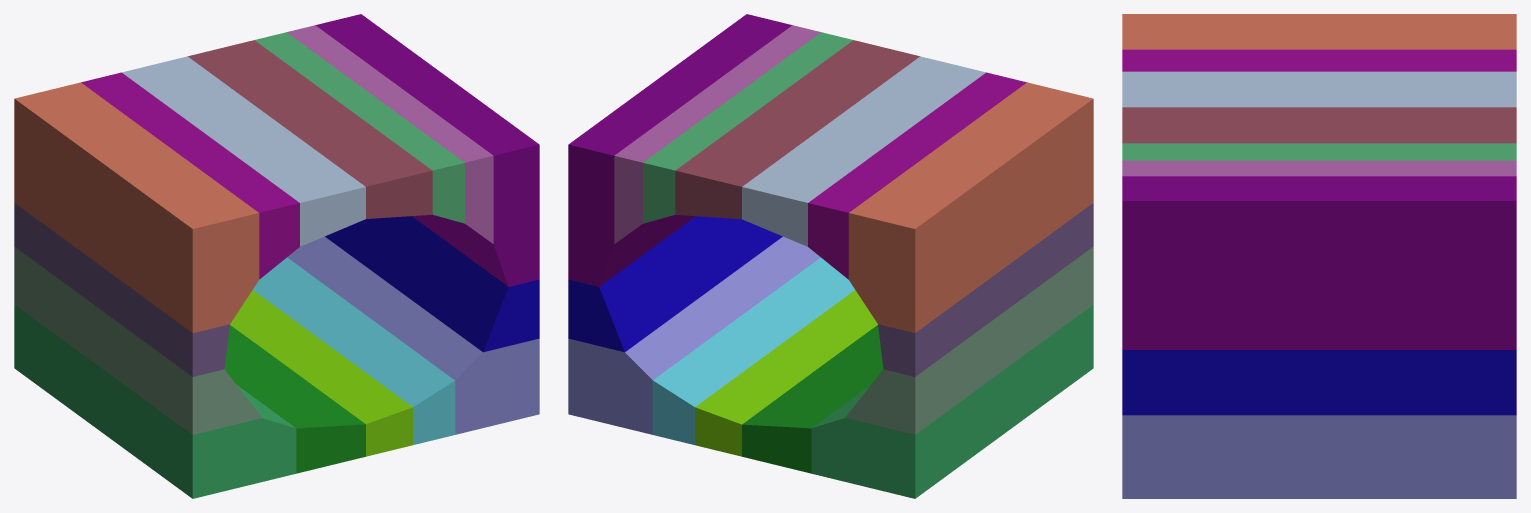
The model's file is hole_4.obj.
3 views of the same model, side by side, from view 1: azimuth 30°, elevation 25°; view 2: azimuth 150°, elevation 25°; view 3: azimuth 270°, elevation 25° (orthographic). The views are drawn at different scales.
Visible parts, largest first — view 1: geometry_9, geometry_10, geometry_11, geometry_13, geometry_12, geometry_6, geometry_5, geometry_0, geometry_2, geometry_14, geometry_1, geometry_4 (+3 smaller); view 2: geometry_9, geometry_10, geometry_11, geometry_13, geometry_12, geometry_6, geometry_5, geometry_0, geometry_2, geometry_14, geometry_1, geometry_4 (+3 smaller); view 3: geometry_11, geometry_12, geometry_5, geometry_6, geometry_13, geometry_9, geometry_14, geometry_3, geometry_7.
Part boxes in pixels (x1=…): geometry_9: x1=14, y1=82, x2=259, y2=332; geometry_10: x1=14, y1=304, x2=296, y2=498; geometry_11: x1=315, y1=14, x2=539, y2=286; geometry_13: x1=188, y1=40, x2=432, y2=218; geometry_12: x1=287, y1=236, x2=539, y2=434; geometry_6: x1=122, y1=56, x2=365, y2=246; geometry_5: x1=325, y1=216, x2=539, y2=352; geometry_0: x1=14, y1=246, x2=261, y2=434; geometry_2: x1=253, y1=257, x2=455, y2=444; geometry_14: x1=81, y1=72, x2=299, y2=279; geometry_1: x1=14, y1=203, x2=229, y2=376; geometry_4: x1=230, y1=290, x2=412, y2=456; geometry_9: x1=848, y1=82, x2=1093, y2=332; geometry_10: x1=811, y1=304, x2=1093, y2=498; geometry_11: x1=568, y1=14, x2=792, y2=286; geometry_13: x1=675, y1=40, x2=919, y2=219; geometry_12: x1=568, y1=236, x2=820, y2=434; geometry_6: x1=742, y1=56, x2=985, y2=246; geometry_5: x1=568, y1=216, x2=782, y2=352; geometry_0: x1=845, y1=246, x2=1093, y2=434; geometry_2: x1=652, y1=257, x2=854, y2=444; geometry_14: x1=808, y1=72, x2=1026, y2=279; geometry_1: x1=878, y1=203, x2=1093, y2=376; geometry_4: x1=695, y1=290, x2=877, y2=456; geometry_11: x1=1122, y1=176, x2=1516, y2=349; geometry_12: x1=1122, y1=415, x2=1516, y2=498; geometry_5: x1=1122, y1=350, x2=1516, y2=415; geometry_6: x1=1122, y1=71, x2=1516, y2=107; geometry_13: x1=1122, y1=107, x2=1516, y2=143; geometry_9: x1=1122, y1=14, x2=1516, y2=49; geometry_14: x1=1122, y1=49, x2=1516, y2=71; geometry_3: x1=1122, y1=143, x2=1516, y2=160; geometry_7: x1=1122, y1=160, x2=1516, y2=176.
Size of the model in its own units: 0.0561 by 0.0417 by 0.05.
